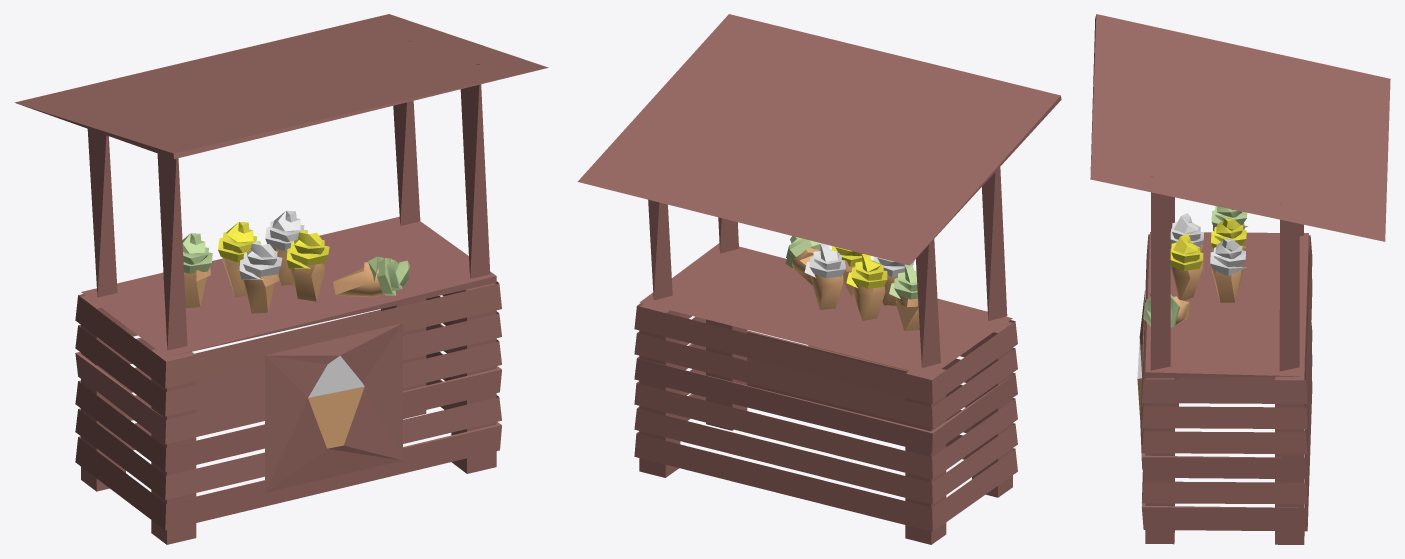
Rendered from ice-cream-stand.fbx.
3 views of the same model, side by side, from view 1: azimuth 30°, elevation 25°; view 2: azimuth 150°, elevation 25°; view 3: azimuth 270°, elevation 25° (orthographic). The views are drawn at different scales.
Parts seen in each view (by area): view 1: 9. ice-cream-stand; view 2: 9. ice-cream-stand; view 3: 9. ice-cream-stand.
Boxes of the visible parts, x1,y1,x2,y2 form: 9. ice-cream-stand: (14,14,548,544); 9. ice-cream-stand: (577,14,1061,544); 9. ice-cream-stand: (1090,14,1390,544).
Size of the model in its own units: 2.16 by 2.3 by 1.66.
